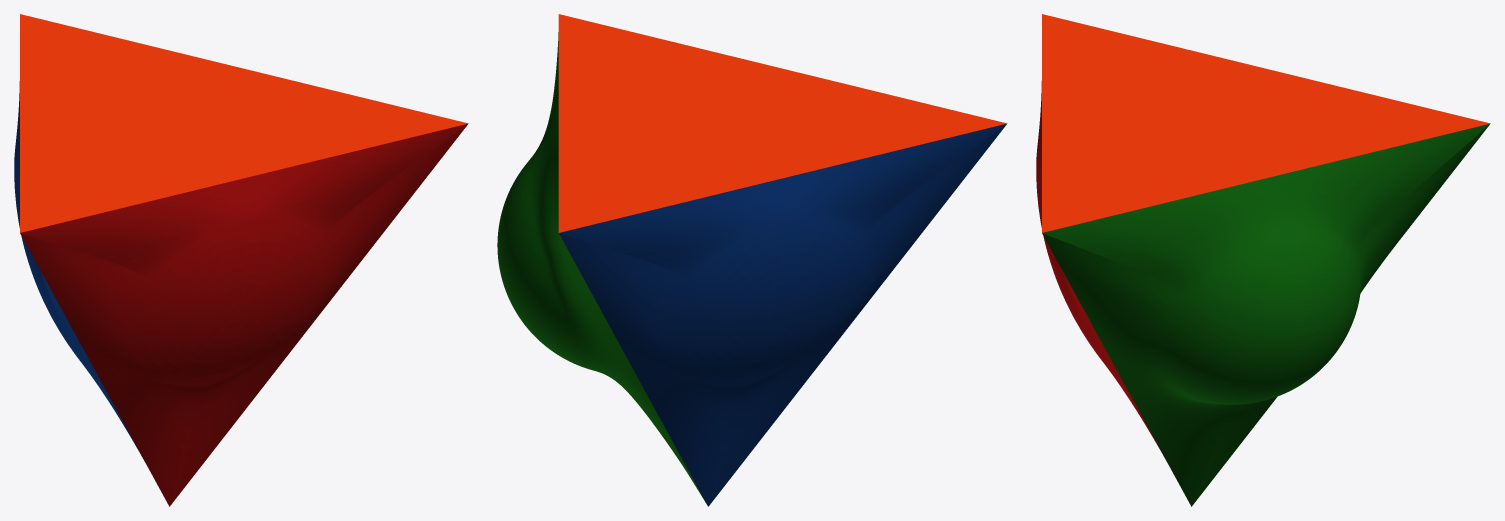
Rendered from 0_1_1_3_tetrahedron.obj.
The picture shows the model from 3 angles, left to right: view 1: azimuth 30°, elevation 25°; view 2: azimuth 150°, elevation 25°; view 3: azimuth 270°, elevation 25°; orthographic projection.
Parts seen in each view (by area): view 1: Level_1_-_level_1_front_Level_1_-_level_1_front.002, Level_0_-_level_0_top, Level_1_-_level_1_left_Level_1_-_level_1_left.002; view 2: Level_1_-_level_1_left_Level_1_-_level_1_left.002, Level_0_-_level_0_top, Level_3_-_level_3_right_Level_3_-_level_3_right.001; view 3: Level_3_-_level_3_right_Level_3_-_level_3_right.001, Level_0_-_level_0_top, Level_1_-_level_1_front_Level_1_-_level_1_front.002.
Boxes of the visible parts, x1,y1,x2,y2 form: Level_1_-_level_1_front_Level_1_-_level_1_front.002: [20, 123, 468, 506]; Level_0_-_level_0_top: [20, 14, 468, 232]; Level_1_-_level_1_left_Level_1_-_level_1_left.002: [14, 81, 144, 461]; Level_1_-_level_1_left_Level_1_-_level_1_left.002: [559, 123, 1006, 506]; Level_0_-_level_0_top: [558, 14, 1007, 232]; Level_3_-_level_3_right_Level_3_-_level_3_right.001: [497, 32, 706, 503]; Level_3_-_level_3_right_Level_3_-_level_3_right.001: [1042, 123, 1490, 506]; Level_0_-_level_0_top: [1042, 14, 1490, 232]; Level_1_-_level_1_front_Level_1_-_level_1_front.002: [1036, 81, 1166, 461].
Bounding box in the file's own units: 0.1 × 0.0816 × 0.0877.
